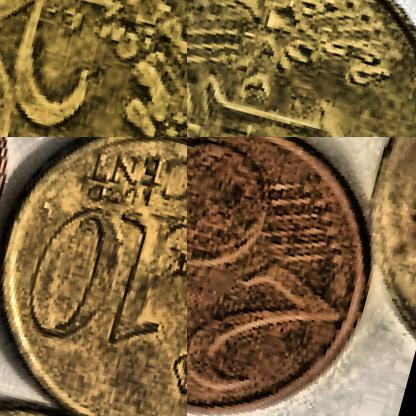coin: (187, 137, 405, 415), (0, 137, 186, 415), (187, 0, 415, 136), (0, 0, 186, 136)
